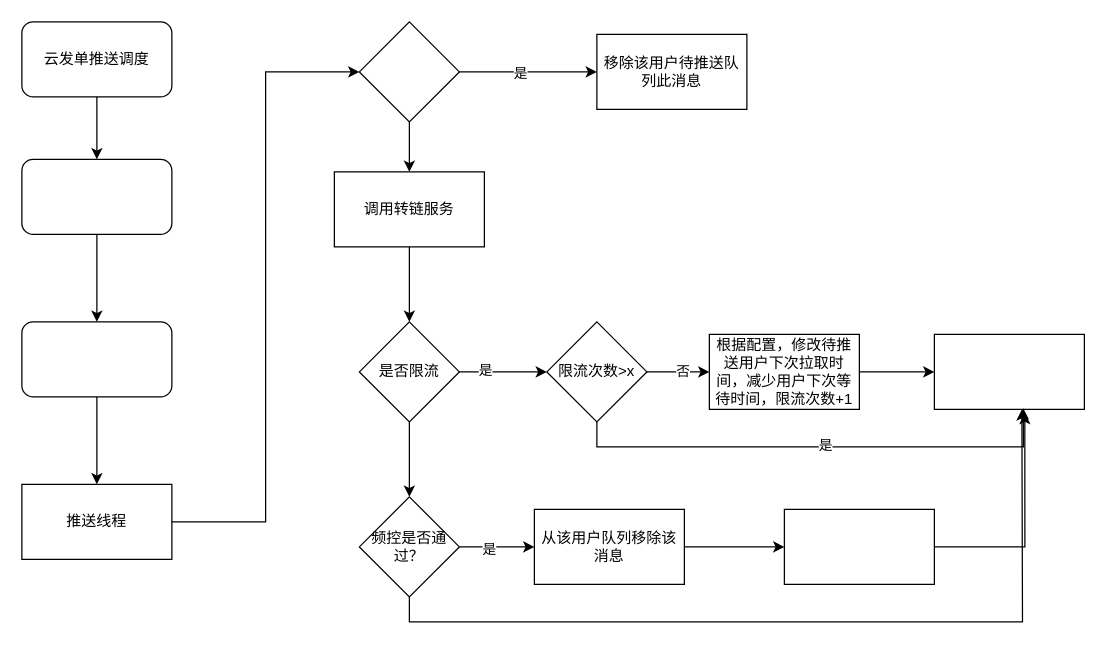
This 1106x654 diagram has some shape labels left out. Each missing label, with the centre of its shape:
"判断次消息是否已经已推送？" belongs at [408,71].
"拉取待推送用户" belongs at [96,196].
"拉取待推送的一个消息" belongs at [96,359].
"推送到第三方" belongs at [858,546].
"结束" belongs at [1008,371].
